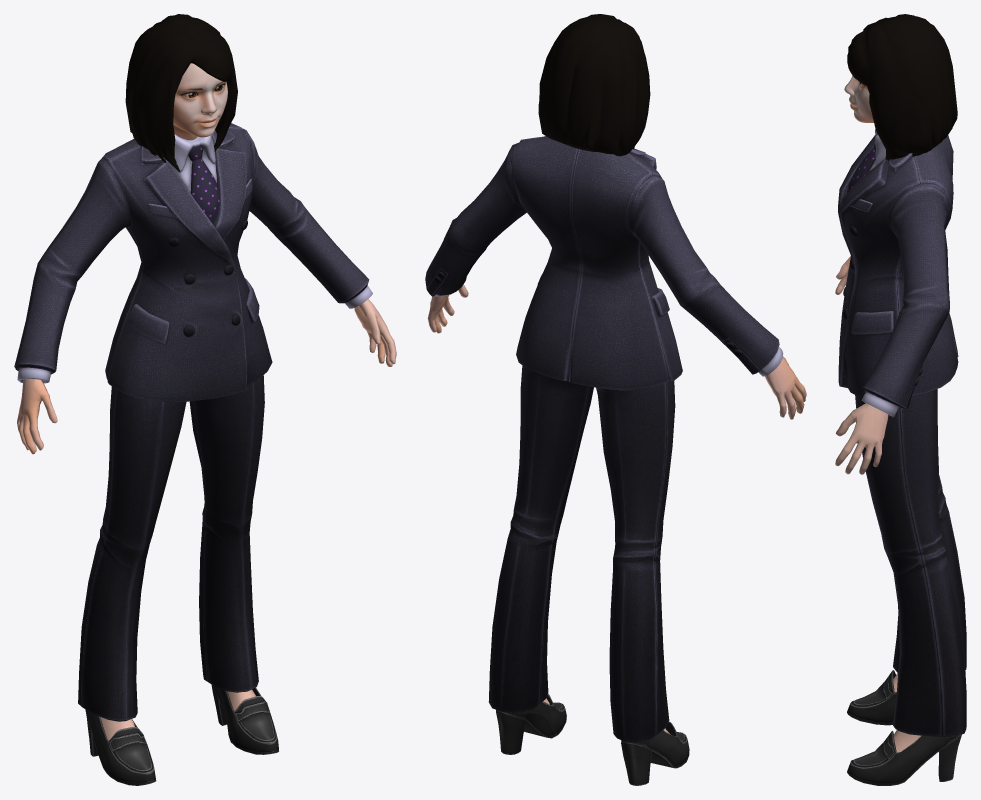
Rendered from eduvance girl 2.glb.
3 renders of one model, left to right at view 1: azimuth 30°, elevation 25°; view 2: azimuth 150°, elevation 25°; view 3: azimuth 270°, elevation 25°, orthographic.
Parts seen in each view (by area): view 1: Wolf3D_Outfit_Top, Wolf3D_Outfit_Bottom, Wolf3D_Hair, Wolf3D_Outfit_Footwear, Wolf3D_Body, Wolf3D_Head; view 2: Wolf3D_Outfit_Top, Wolf3D_Outfit_Bottom, Wolf3D_Hair, Wolf3D_Outfit_Footwear, Wolf3D_Body; view 3: Wolf3D_Outfit_Top, Wolf3D_Outfit_Bottom, Wolf3D_Hair, Wolf3D_Outfit_Footwear, Wolf3D_Body, Wolf3D_Head.
Part boxes in pixels (x1=…): Wolf3D_Outfit_Top: x1=14, y1=123, x2=372, y2=401; Wolf3D_Outfit_Bottom: x1=78, y1=375, x2=264, y2=721; Wolf3D_Hair: x1=125, y1=14, x2=237, y2=171; Wolf3D_Outfit_Footwear: x1=85, y1=684, x2=278, y2=785; Wolf3D_Body: x1=17, y1=299, x2=396, y2=740; Wolf3D_Head: x1=173, y1=63, x2=227, y2=140; Wolf3D_Outfit_Top: x1=425, y1=136, x2=783, y2=390; Wolf3D_Outfit_Bottom: x1=488, y1=365, x2=675, y2=743; Wolf3D_Hair: x1=538, y1=14, x2=650, y2=156; Wolf3D_Outfit_Footwear: x1=496, y1=694, x2=689, y2=785; Wolf3D_Body: x1=427, y1=284, x2=806, y2=733; Wolf3D_Outfit_Top: x1=838, y1=129, x2=958, y2=417; Wolf3D_Outfit_Bottom: x1=855, y1=389, x2=966, y2=737; Wolf3D_Hair: x1=847, y1=14, x2=957, y2=160; Wolf3D_Outfit_Footwear: x1=847, y1=670, x2=961, y2=785; Wolf3D_Body: x1=835, y1=256, x2=920, y2=752; Wolf3D_Head: x1=844, y1=75, x2=873, y2=122.
Size of the model in its own units: 0.9279 by 1.77 by 0.2892.
Materials: 8 (8 with a texture image).
